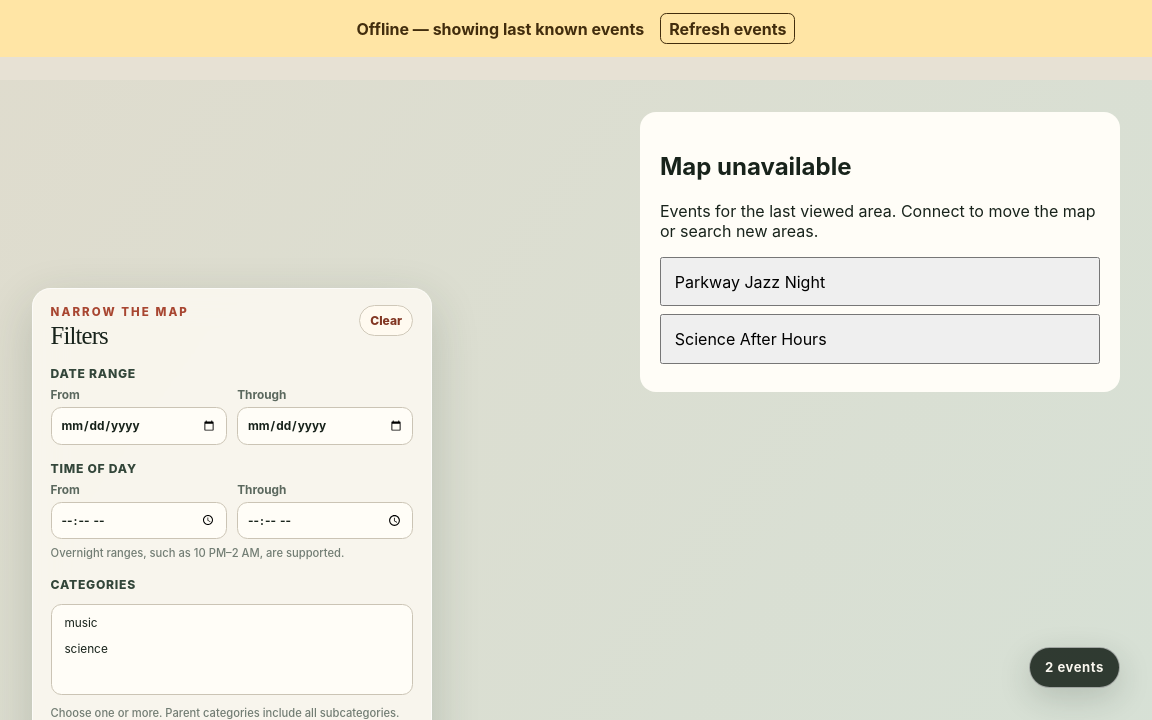
opens cached details on a cold offline launch without loading Google Maps
This screenshot has width=1152, height=720.
expect the text "Offline — showing last known events" is shown: met, box [356,19,644,39]
Click the button "Parkway Jazz Night" at (750, 282), box [660,257,1100,306]
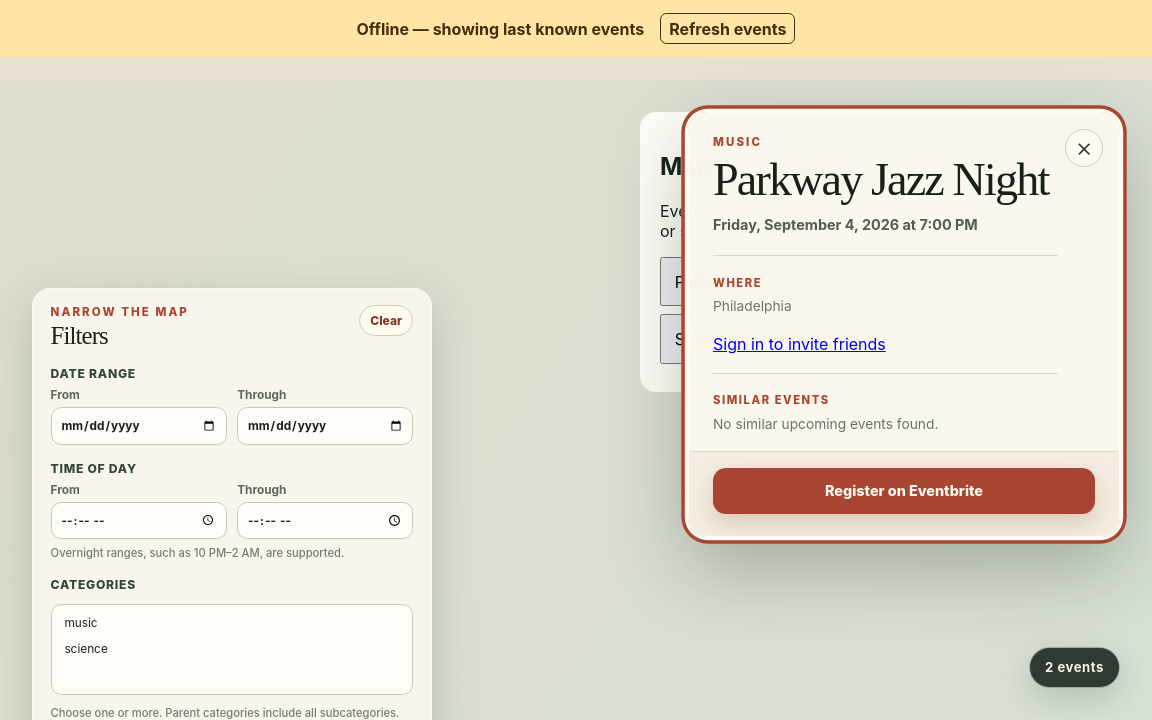
expect the dialog "Parkway Jazz Night" is shown: met, box [688,112,1120,537]
